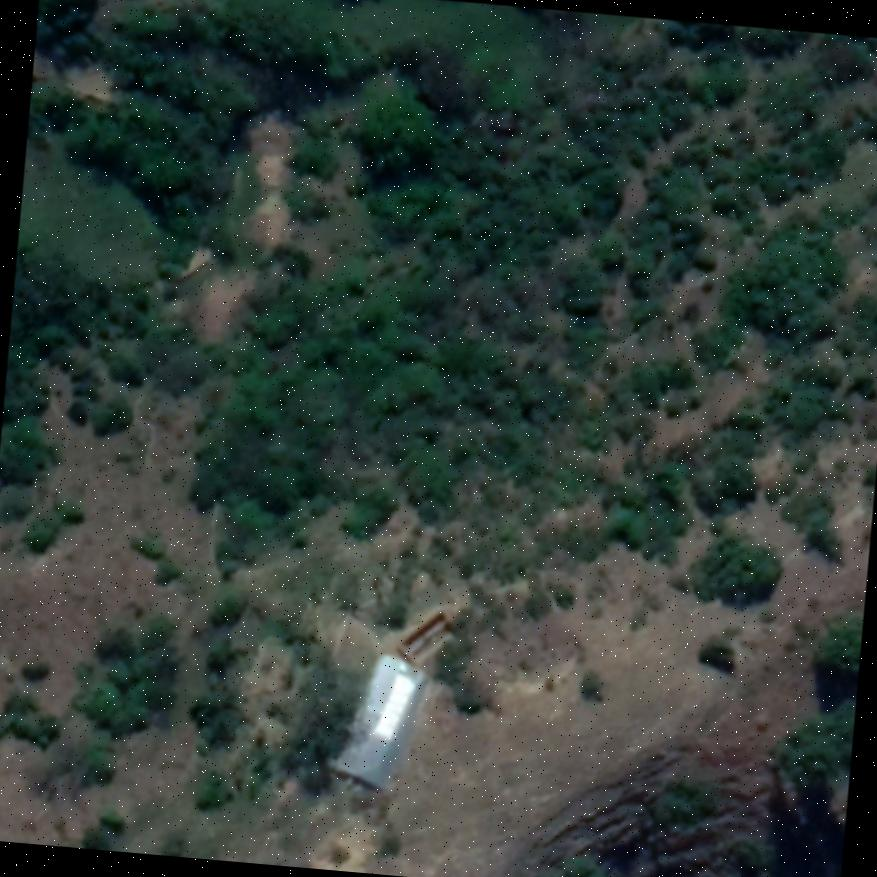Solarpanel: (372, 670, 415, 738)
